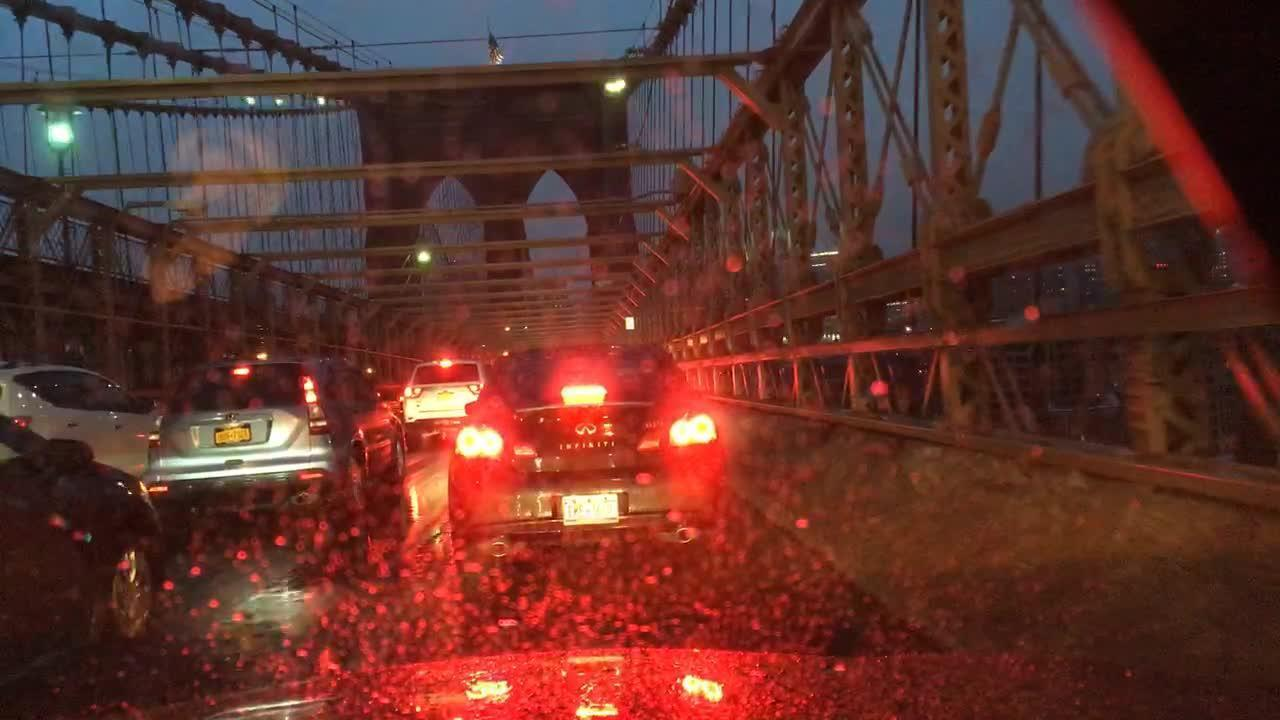Infiniti: (569, 419, 603, 444)
